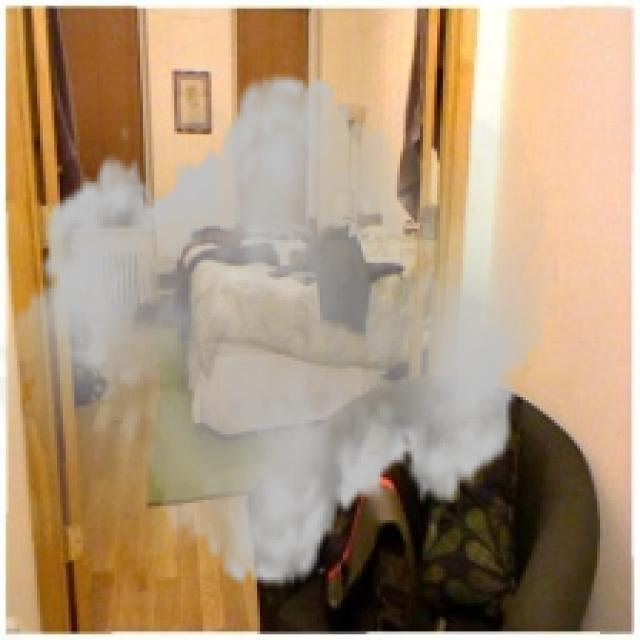smoke: (0, 51, 557, 608)
